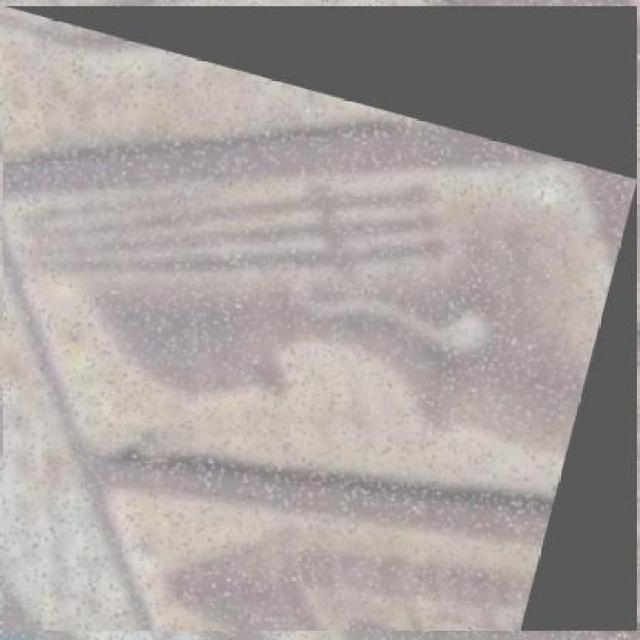Manhole: (4, 6, 638, 631)
